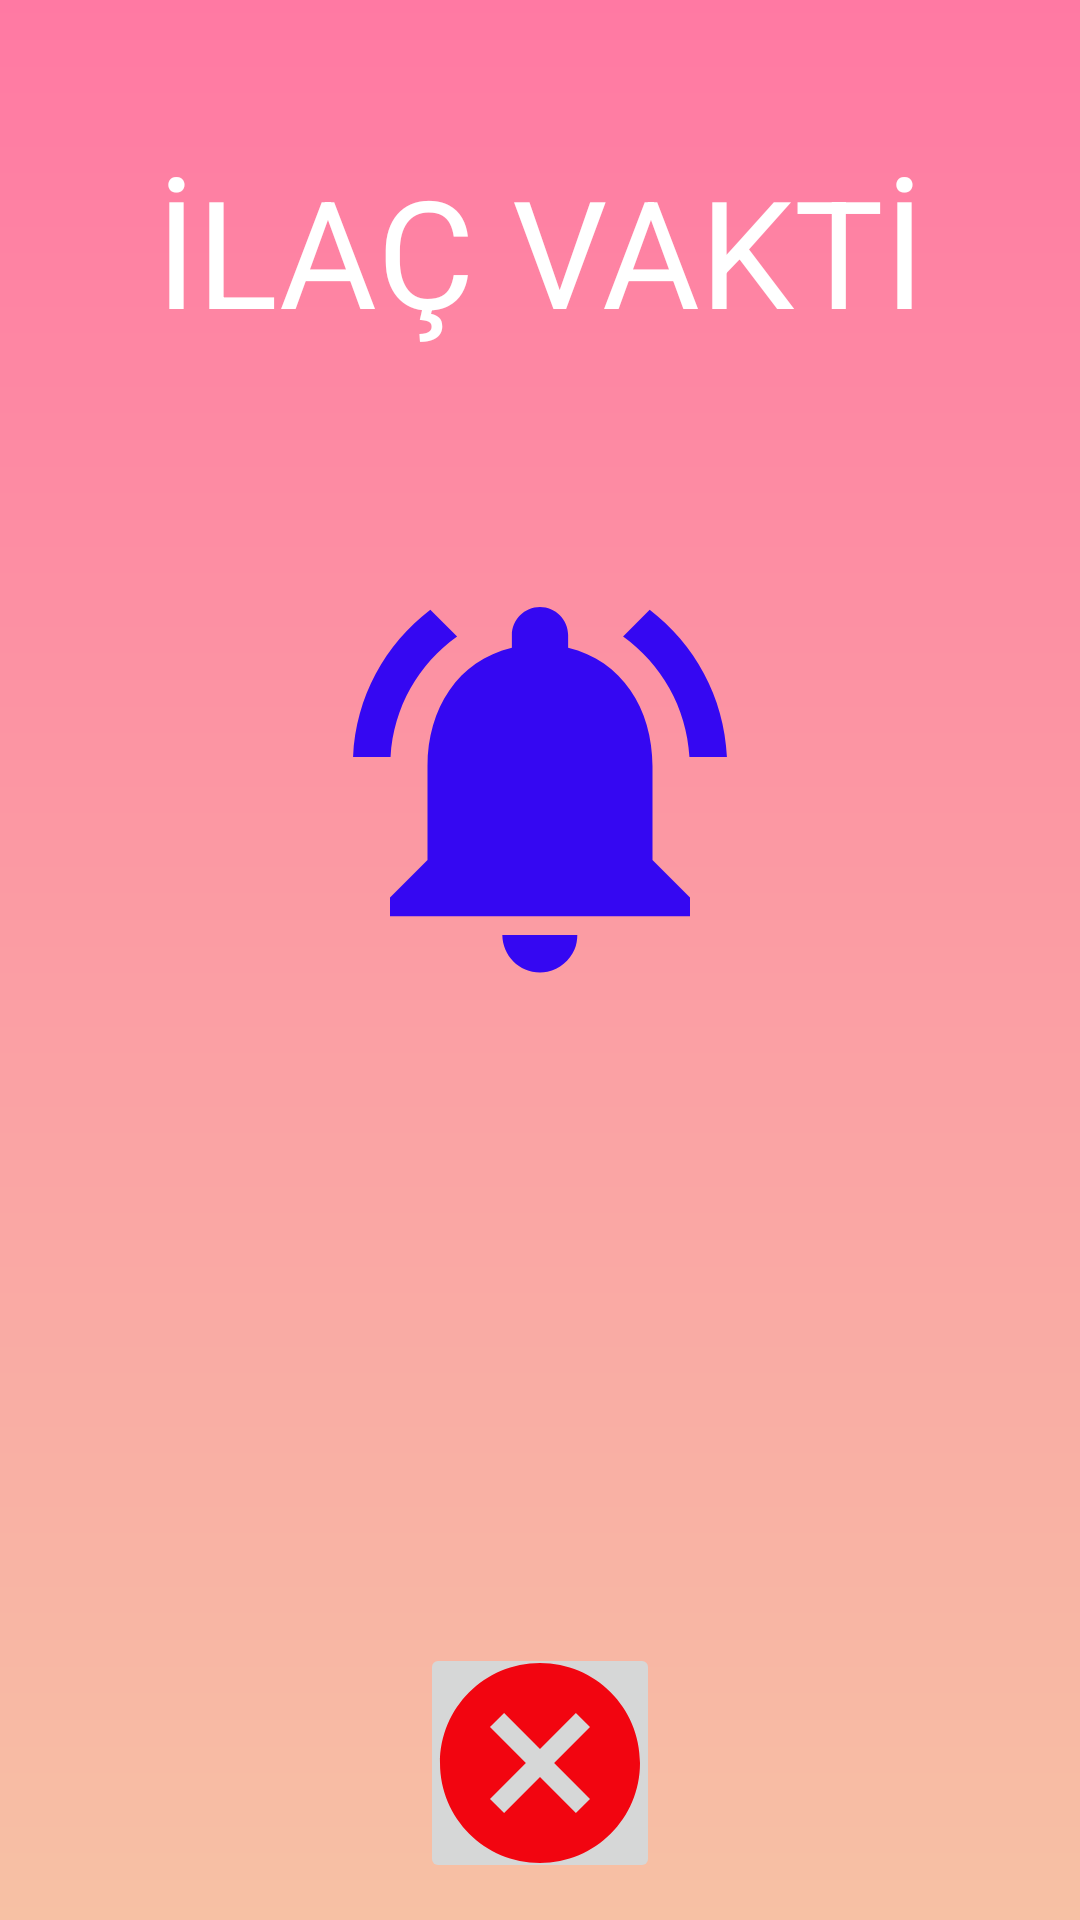

Icons on this 1080x1920 Android screen, each with the point to tap as (x=x, y=y):
cancel: (x=540, y=1763)
